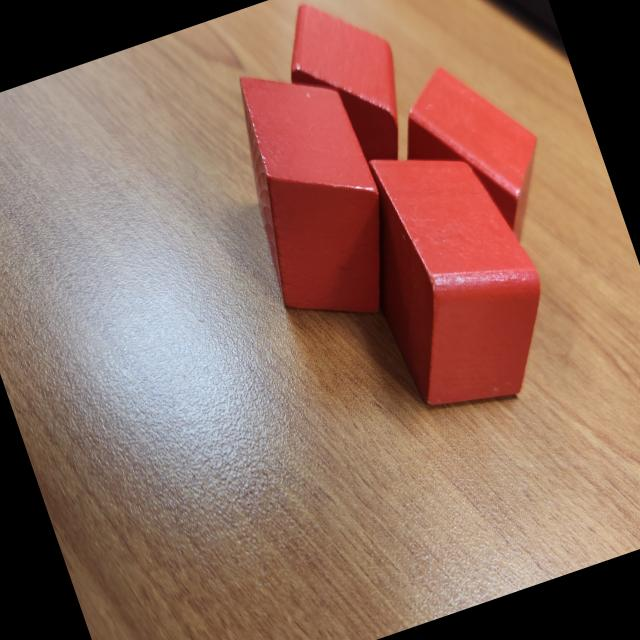red: (337, 119, 574, 426), (208, 45, 418, 342), (379, 40, 569, 273), (266, 0, 428, 188)
